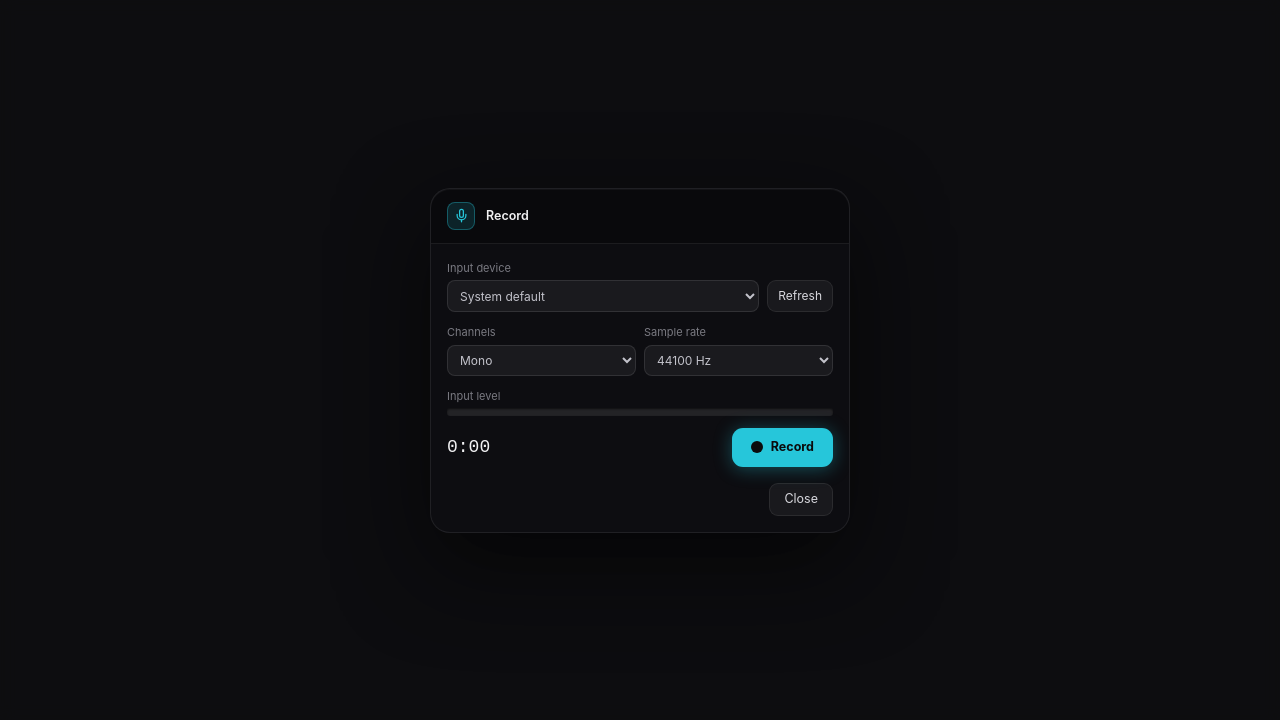
Scenario: RecordDialog › starts recording with the chosen channels/rate and toggles to Stop
The image size is (1280, 720).
Select "Stereo" in the dropdown with test id "record-channels" at (542, 360), box x1=447 y1=344 x2=636 y2=376
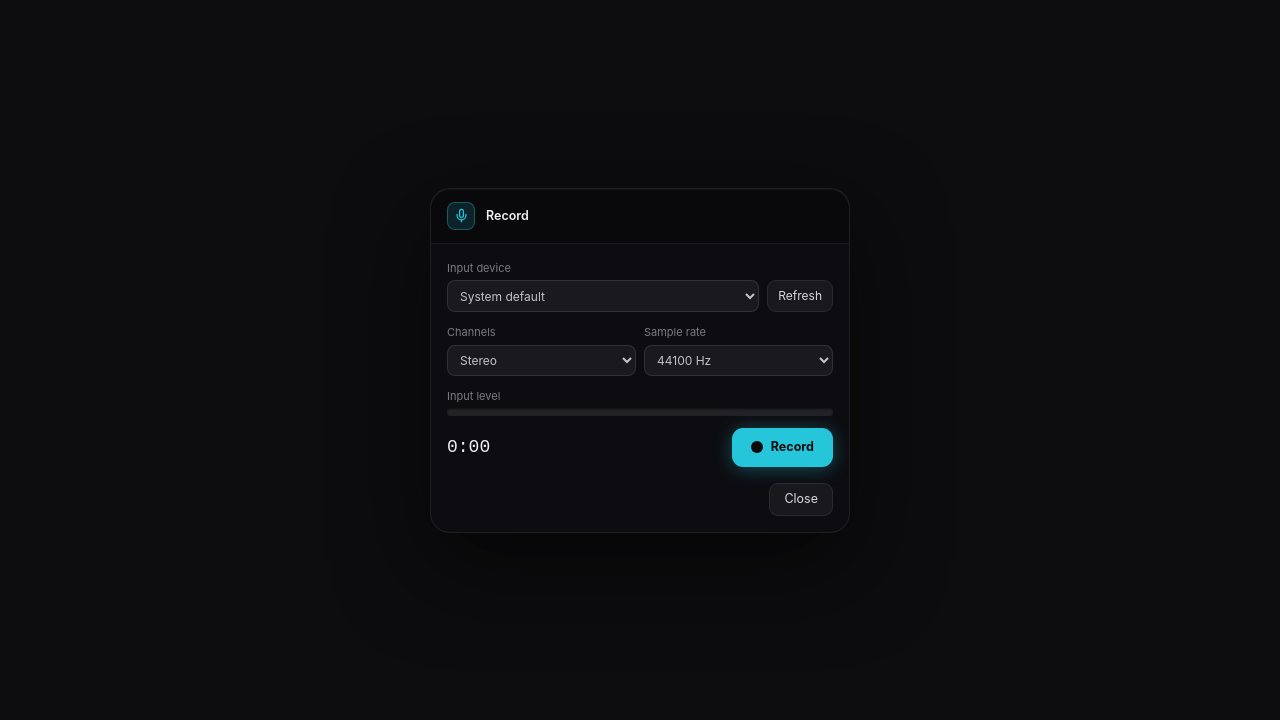
Select "48000 Hz" in the dropdown with test id "record-rate" at (738, 360), box x1=644 y1=344 x2=833 y2=376
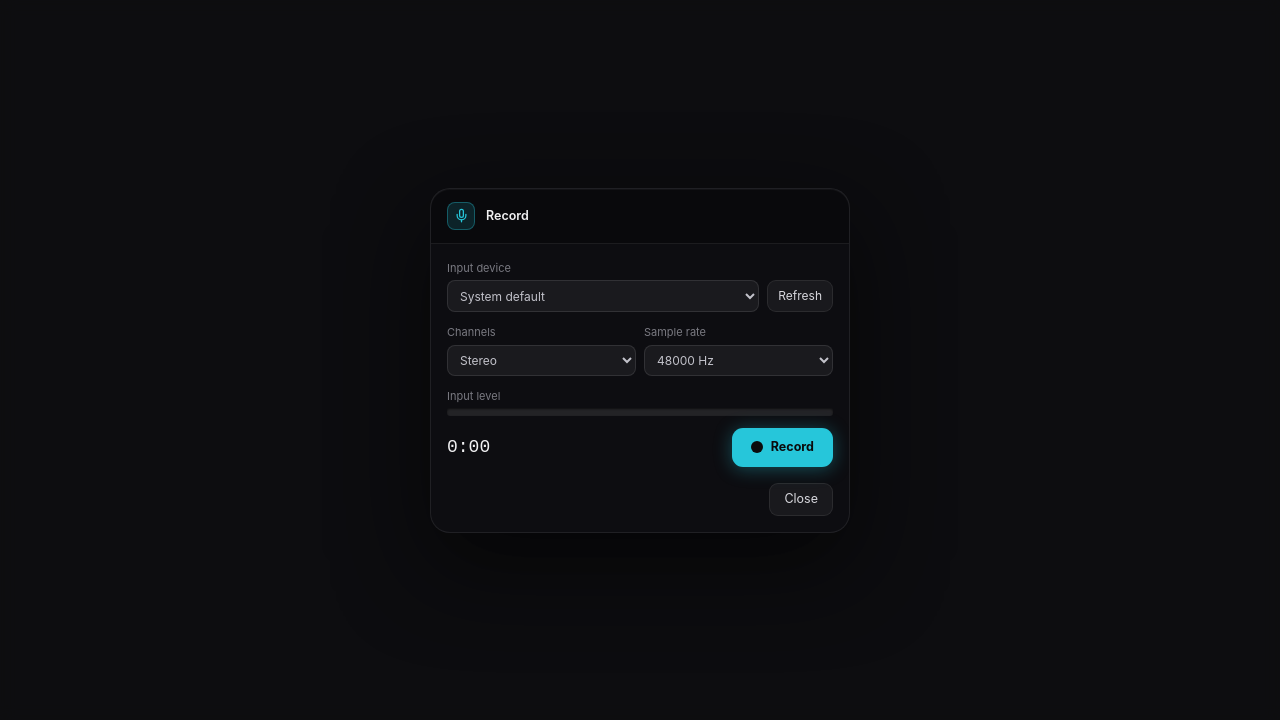
Click the button with test id "record-toggle" at (782, 447), box x1=732 y1=428 x2=833 y2=467
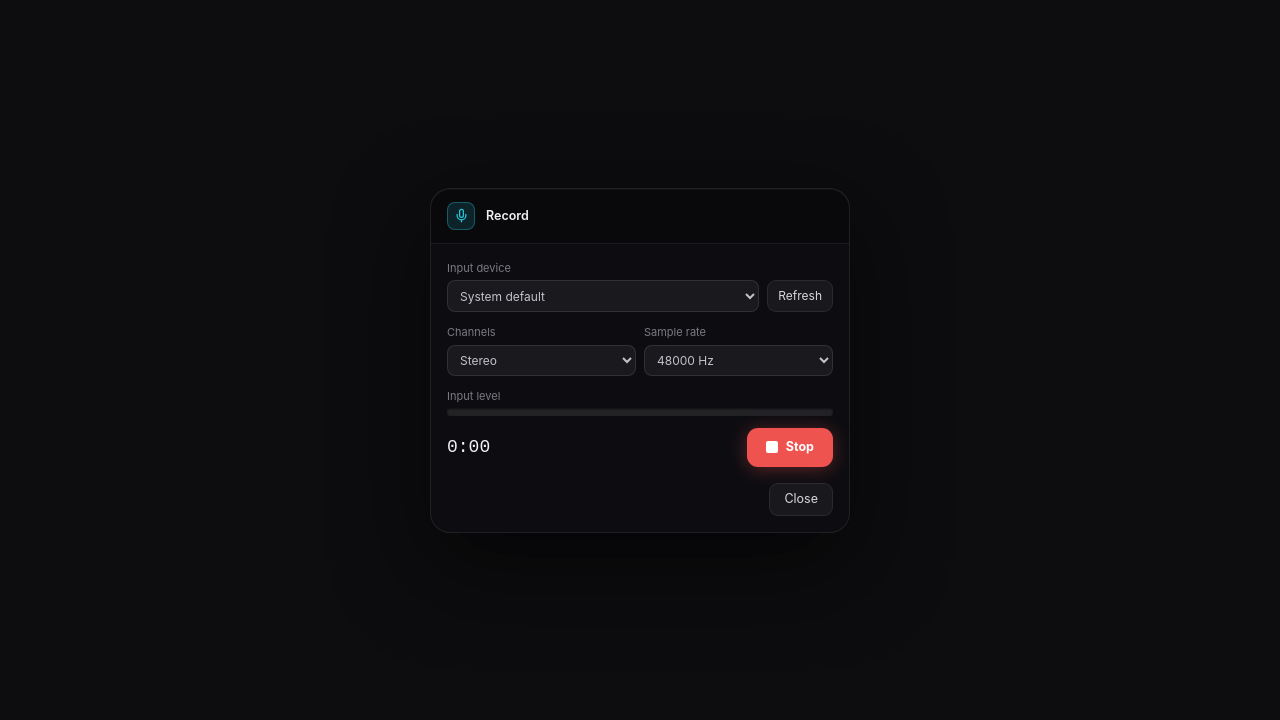
Check: the button with aria-label "Stop recording" is shown, box x1=747 y1=428 x2=833 y2=467
